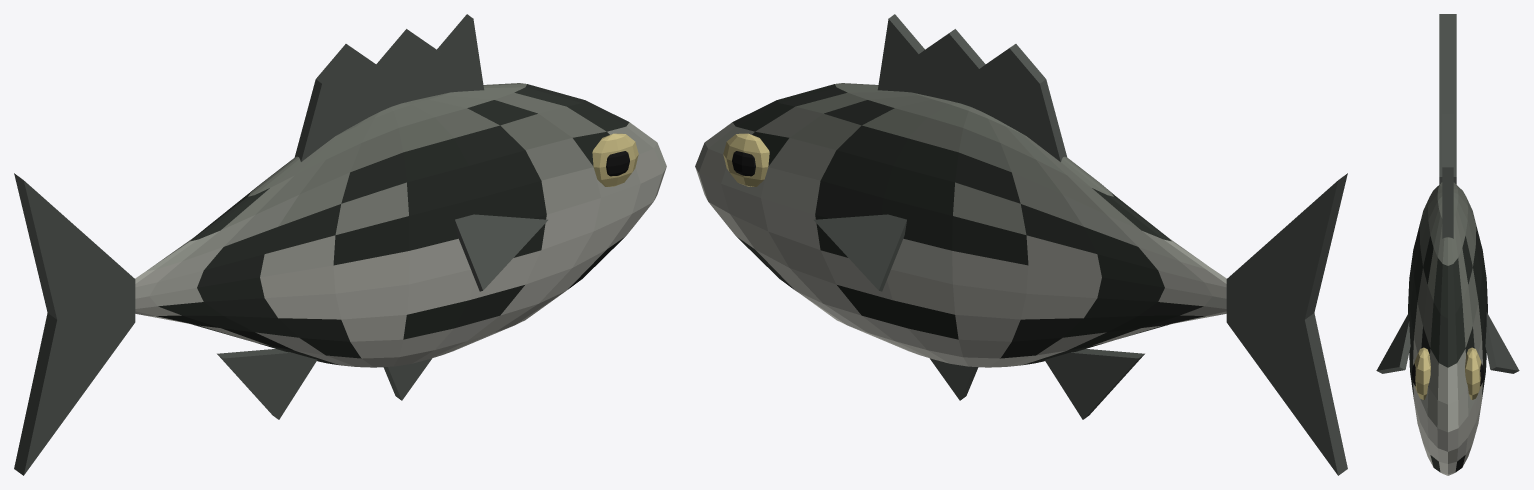
Rendered from BlackCrappie.glb.
3 renders of one model, left to right at view 1: azimuth 30°, elevation 25°; view 2: azimuth 150°, elevation 25°; view 3: azimuth 270°, elevation 25°, orthographic. The views are drawn at different scales.
Visible parts, largest first — view 1: BlackCrappie; view 2: BlackCrappie; view 3: BlackCrappie.
Boxes of the visible parts, x1,y1,x2,y2 form: BlackCrappie: (14, 14, 666, 475); BlackCrappie: (695, 14, 1347, 475); BlackCrappie: (1376, 14, 1519, 475).
Bounding box in the file's own units: 2.42 × 1.3 × 0.5132.
